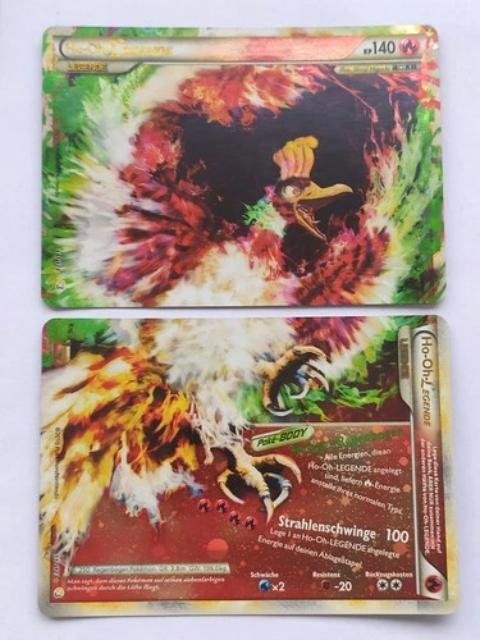Card: (35, 311, 464, 622), (38, 20, 452, 313)
Name: (60, 35, 178, 63), (411, 331, 440, 436)
